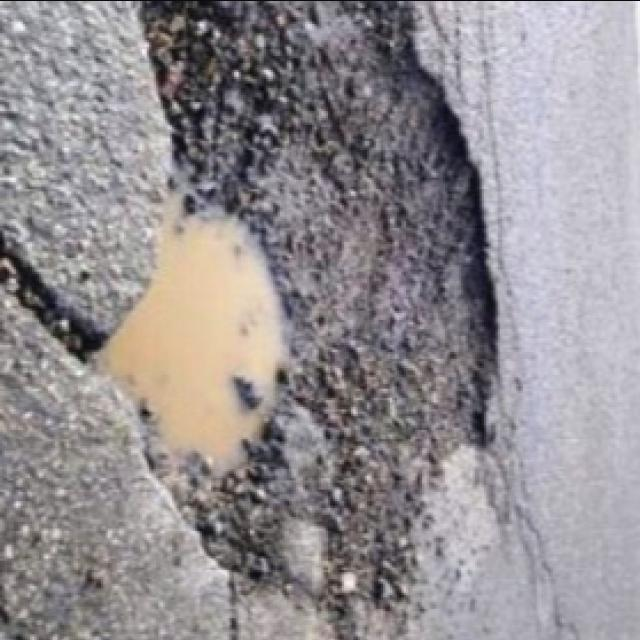pothole: (75, 0, 513, 639)
